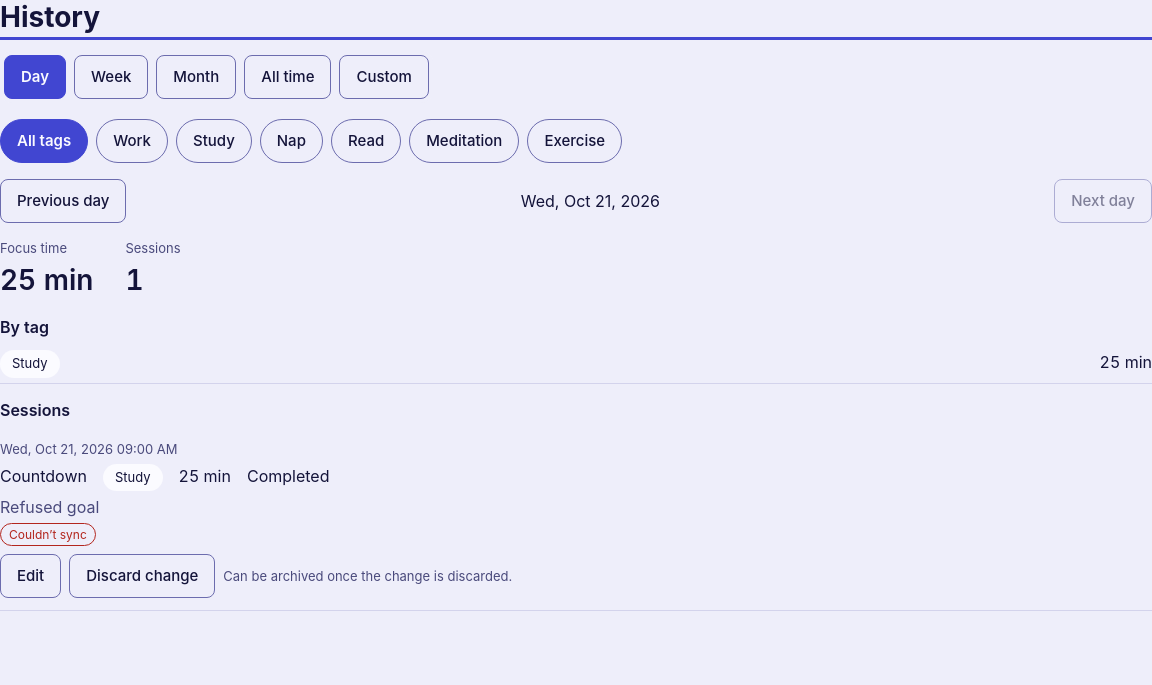
Test: Discard change (AC11.1, AC13.5) › asks first with Cancel focused; Cancel keeps the edit and returns focus
The width and height of the screenshot is (1152, 685).
Check: the text "Refused goal" is shown, box left=0, top=497, right=99, bottom=517
What coordinates should you click on to do the following:
click the button with aria-label "Discard change to session"
I would click on:
 (142, 576)
Its box is left=69, top=554, right=215, bottom=598.
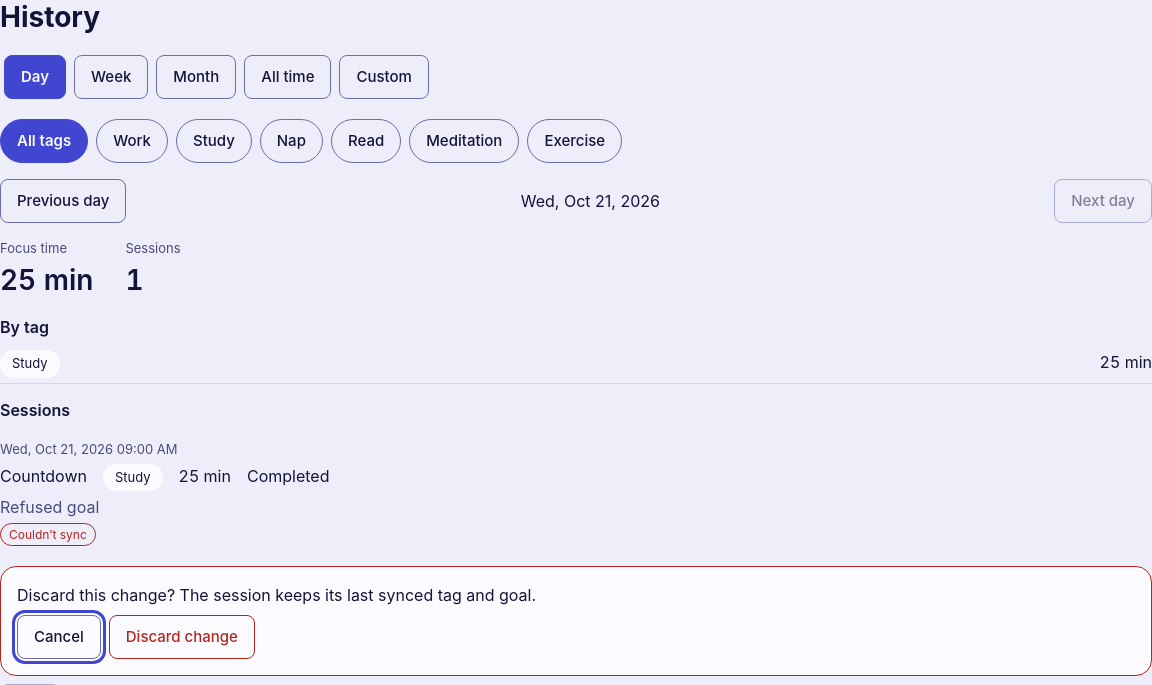
Check: the dialog shows "Discard this change? The session keeps its last synced tag and goal.", box left=17, top=585, right=536, bottom=605
What coordinates should you click on to do the following:
click the button "Cancel"
I would click on:
 (59, 637)
Its box is left=17, top=615, right=101, bottom=659.
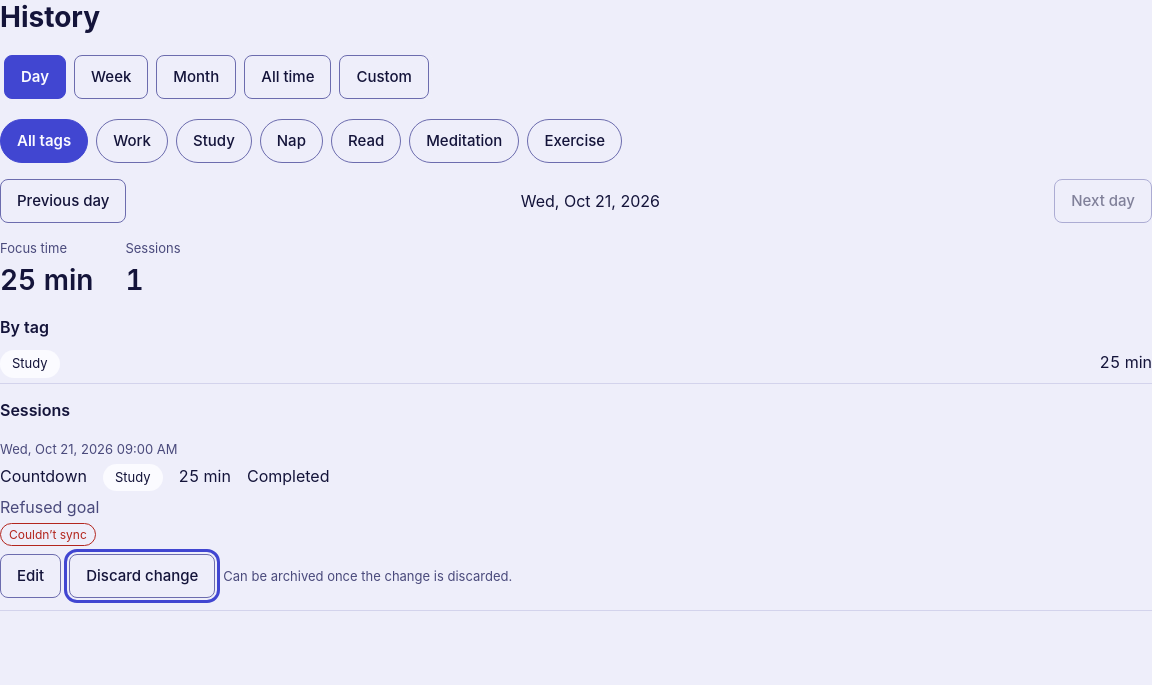
Check: the text "Refused goal" is shown, box left=0, top=497, right=99, bottom=517
Check: the dialog is gone
